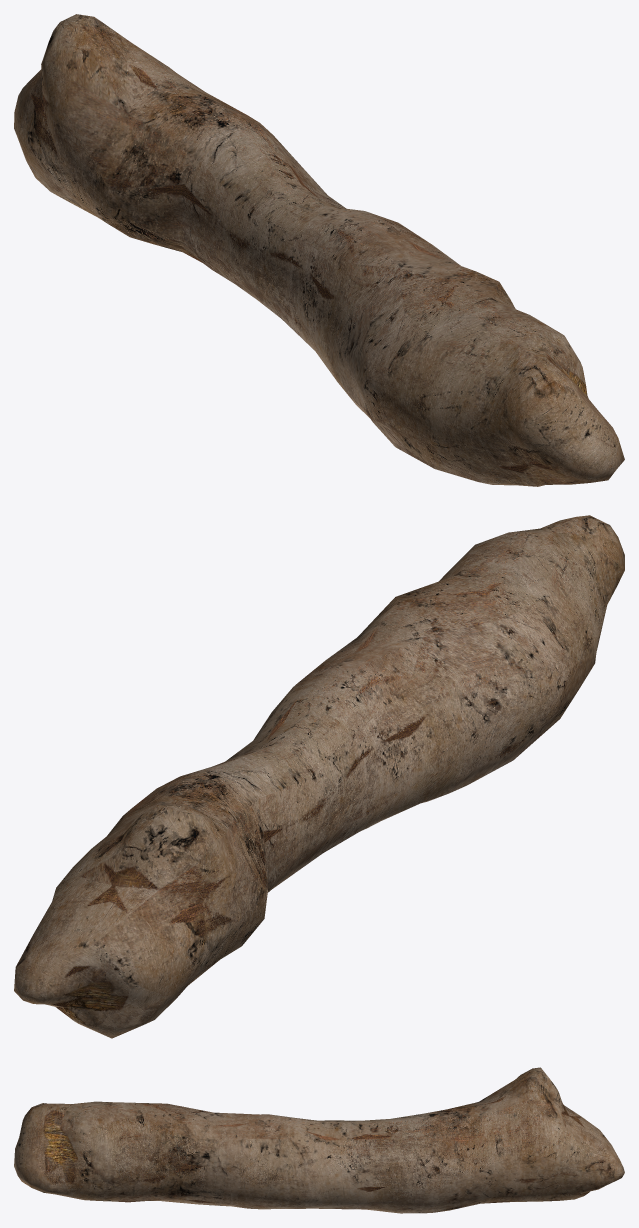
Rendered from SM_Sticks_Medium_01.fbx.
3 views of the same model, one above another, from view 1: azimuth 30°, elevation 25°; view 2: azimuth 150°, elevation 25°; view 3: azimuth 270°, elevation 25° (orthographic). The views are drawn at different scales.
Parts seen in each view (by area): view 1: SM_Sticks_Medium_01; view 2: SM_Sticks_Medium_01; view 3: SM_Sticks_Medium_01.
Boxes of the visible parts, box(x1,y1,x2,y2) form: SM_Sticks_Medium_01: box(14, 14, 624, 486); SM_Sticks_Medium_01: box(14, 515, 624, 1038); SM_Sticks_Medium_01: box(14, 1067, 624, 1213).
Size of the model in its own units: 9.9 by 51.89 by 11.31.
Materials: 1 (1 with a texture image).
